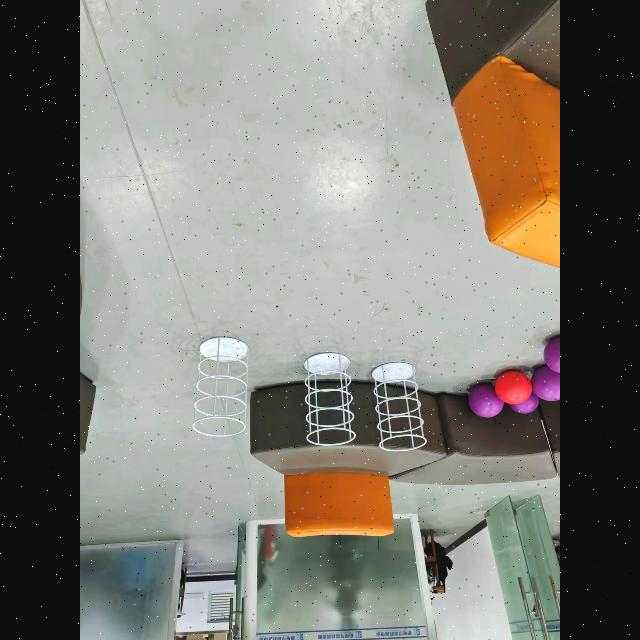P: (510, 366, 560, 414), (469, 383, 502, 418), (547, 332, 560, 375)
R: (496, 370, 533, 405)
S: (192, 336, 250, 436), (305, 354, 355, 448), (374, 360, 426, 450)
